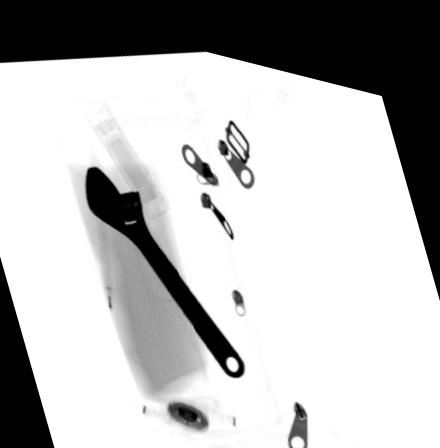Wrench: (85, 156, 246, 367)
